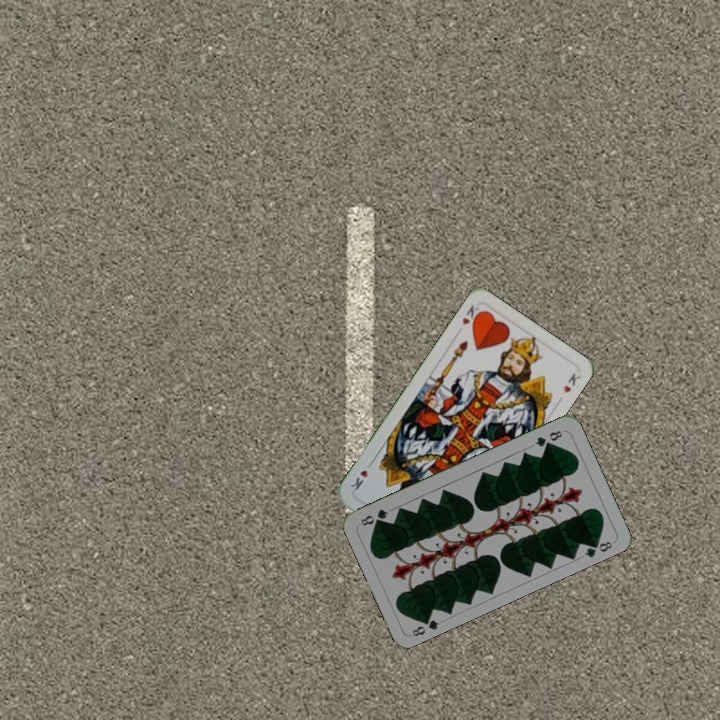G8: (408, 612, 442, 639), (531, 426, 565, 450)
HK: (458, 301, 484, 329)
